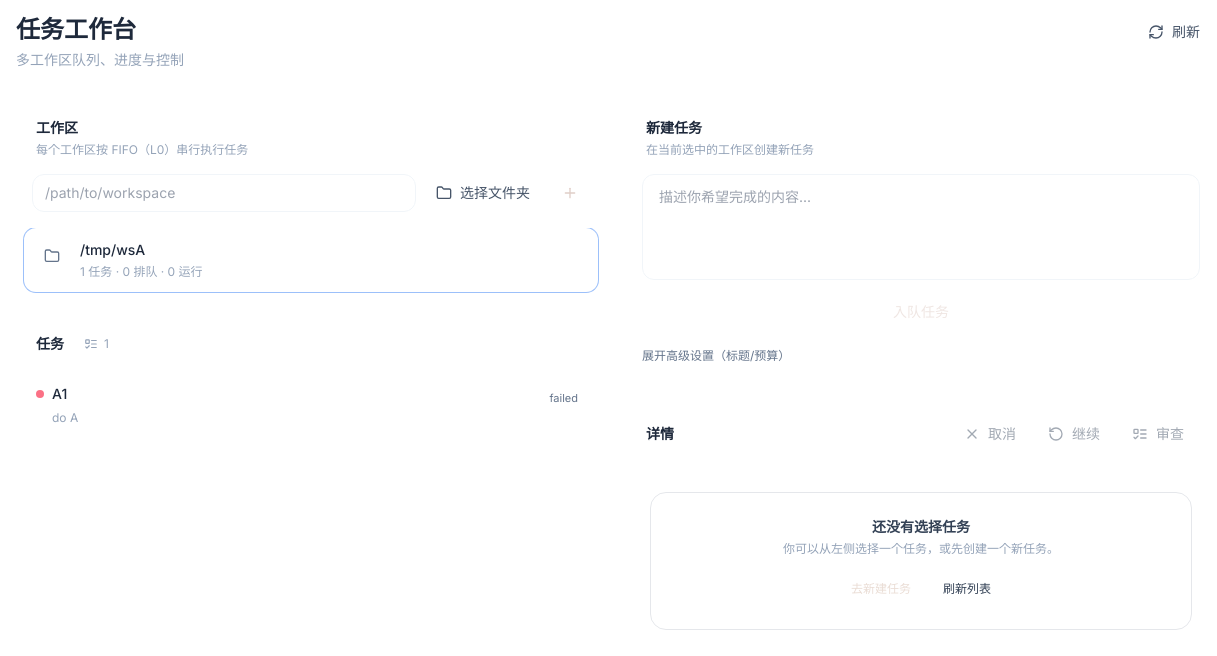
Test: shows project scripts info in advanced details
The image size is (1217, 656).
Click the button with test id "workbench-task-item" at (40, 394), box [24, 372, 598, 438]
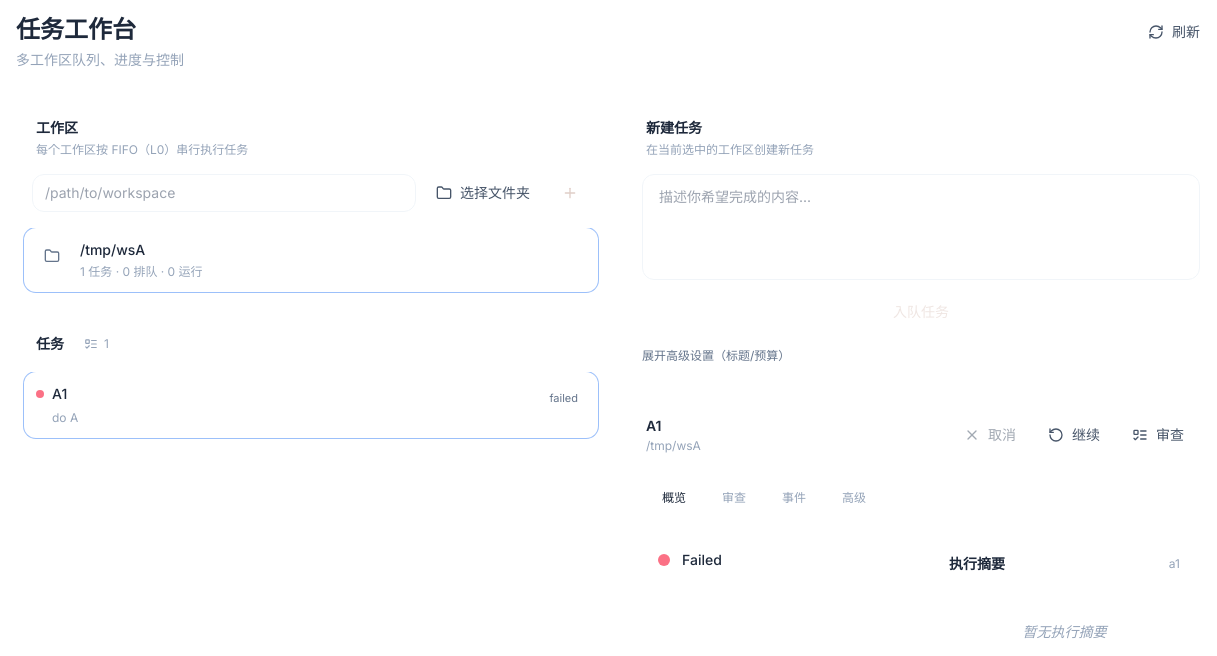
Click the button with test id "workbench-details-advanced-toggle" at (854, 498), box [826, 482, 882, 514]
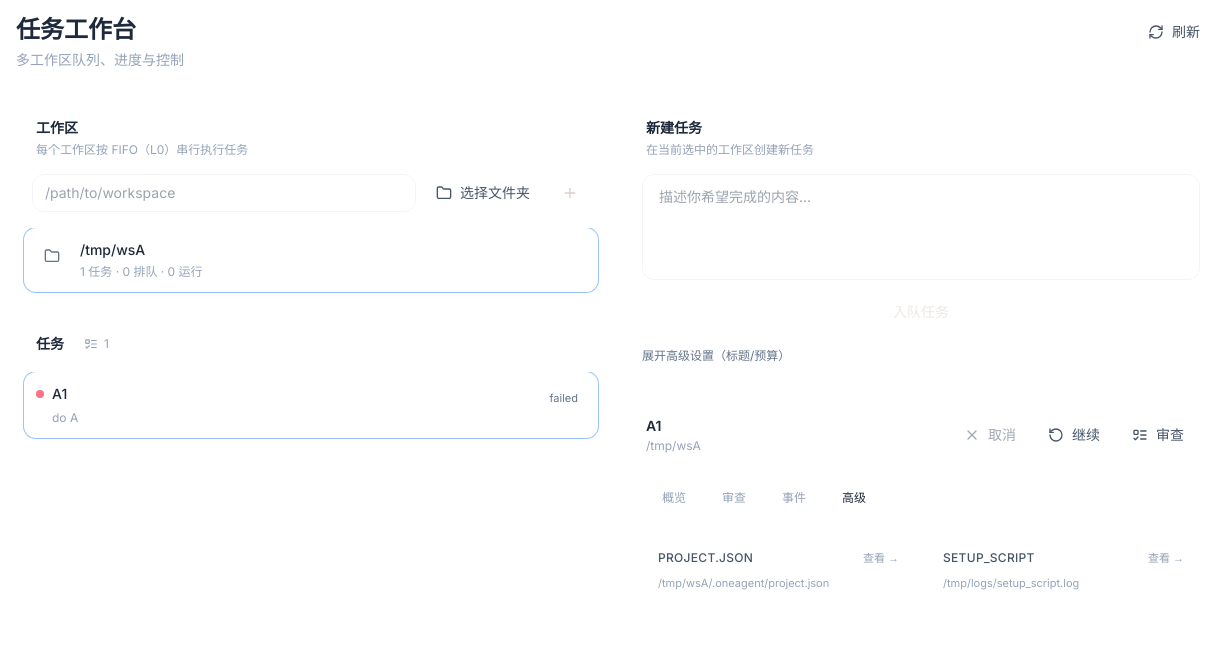
Expected: the element with test id "workbench-details-advanced" is shown, [642, 534, 1200, 607]
Expected: the text "/tmp/wsA/.oneagent/project.json" is shown, [658, 576, 829, 590]
Expected: the text "/tmp/logs/setup_script.log" is shown, [943, 576, 1079, 590]
